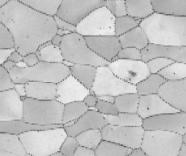good_void: (128, 69, 137, 76), (108, 25, 112, 30), (173, 71, 177, 75), (129, 77, 132, 81), (147, 106, 150, 110), (78, 38, 81, 41), (54, 46, 57, 49)
